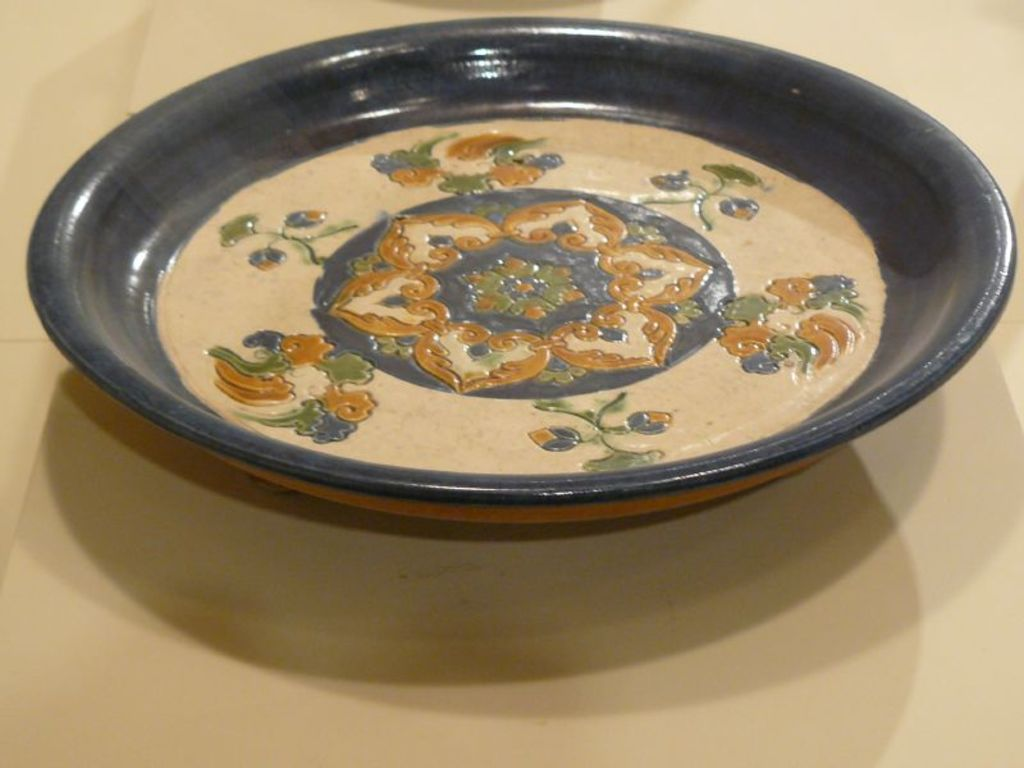plate: (15, 43, 1016, 524)
